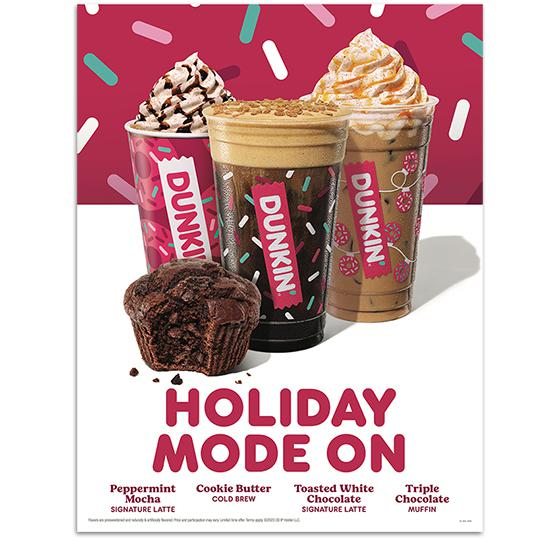Headline: (103, 380, 462, 530)
Product: (102, 30, 449, 382)
logo: (247, 172, 313, 314), (346, 160, 398, 281), (152, 155, 210, 259)
